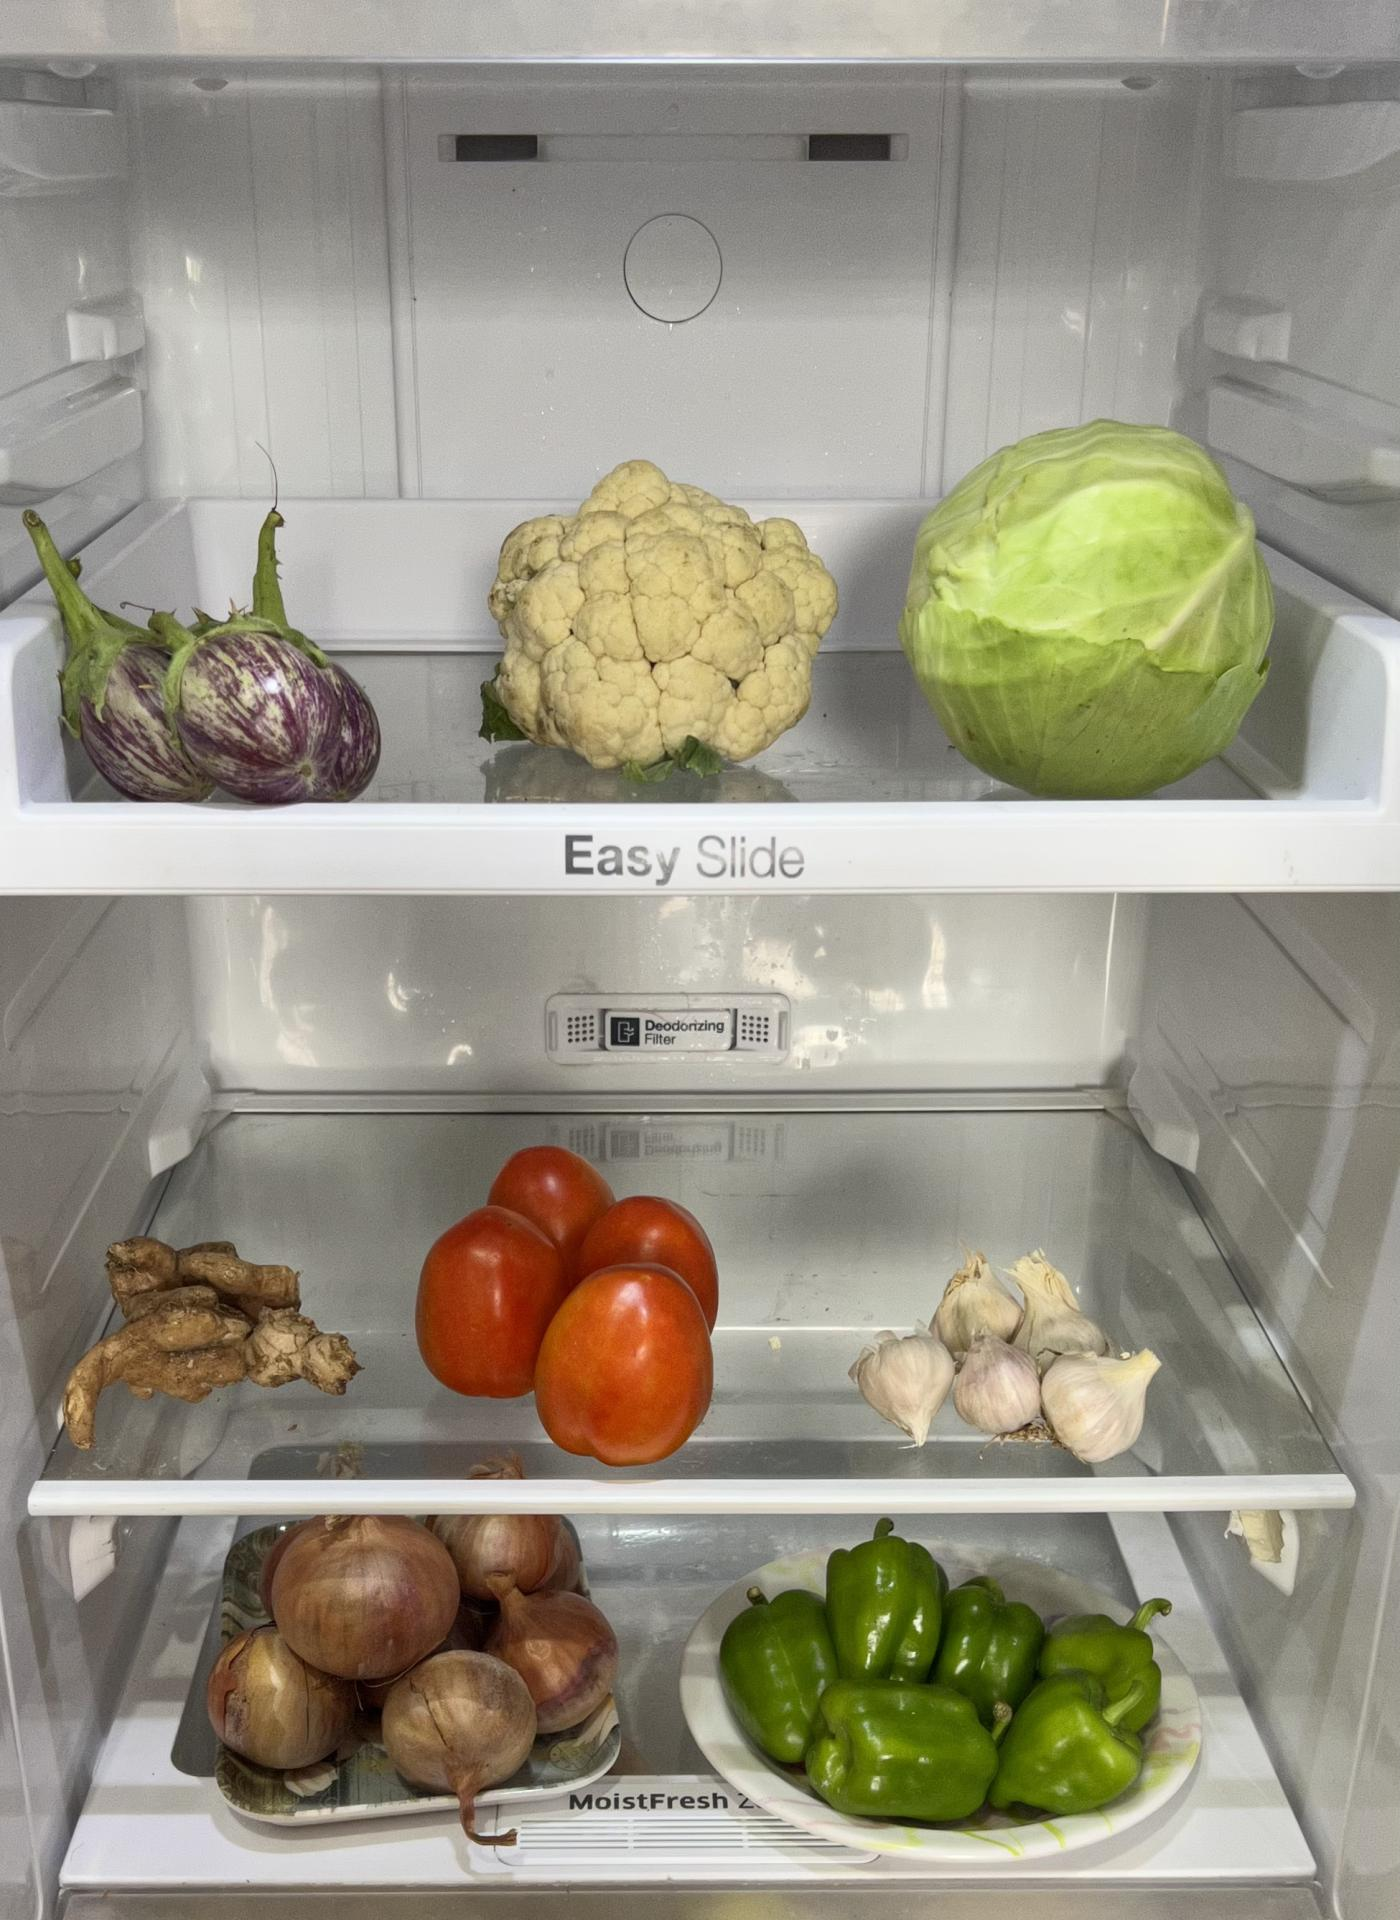cabbage: (909, 414, 1273, 784)
capsicum: (719, 1541, 1176, 1828)
cauliflower: (479, 455, 835, 765)
garlic: (856, 1246, 1154, 1461)
ginger: (51, 1215, 365, 1458)
onion: (206, 1512, 613, 1802)
tomato: (410, 1142, 731, 1464)
